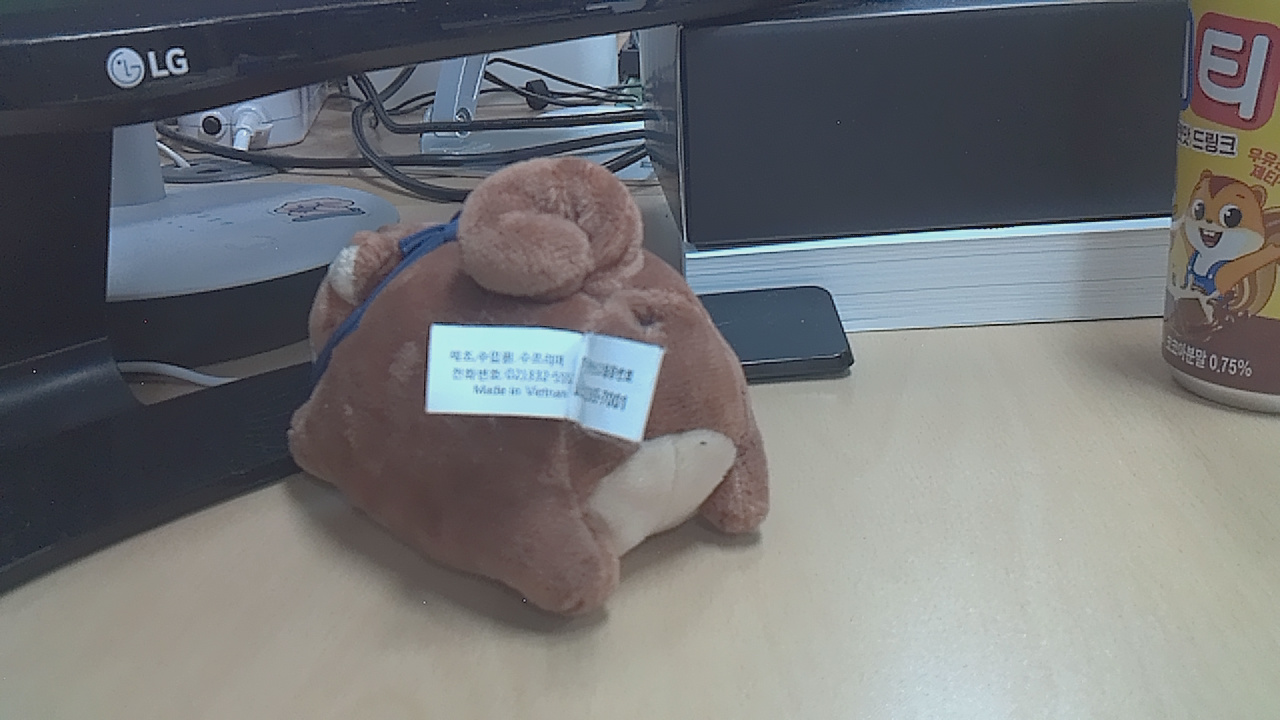cuteDog: (261, 169, 770, 672)
